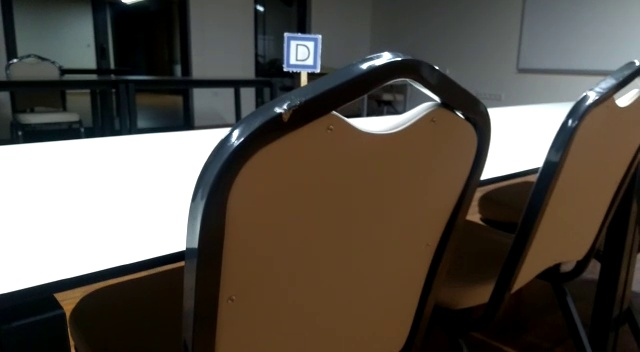durak: (283, 33, 320, 71)
